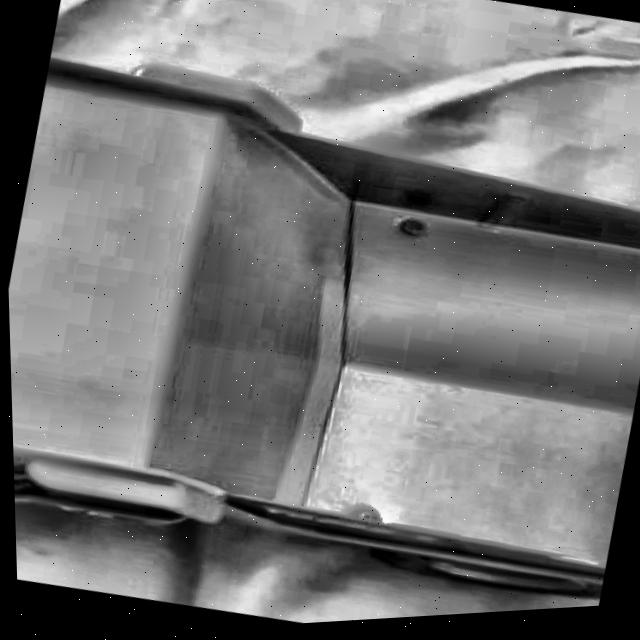dump_truck: (1, 21, 640, 640)
